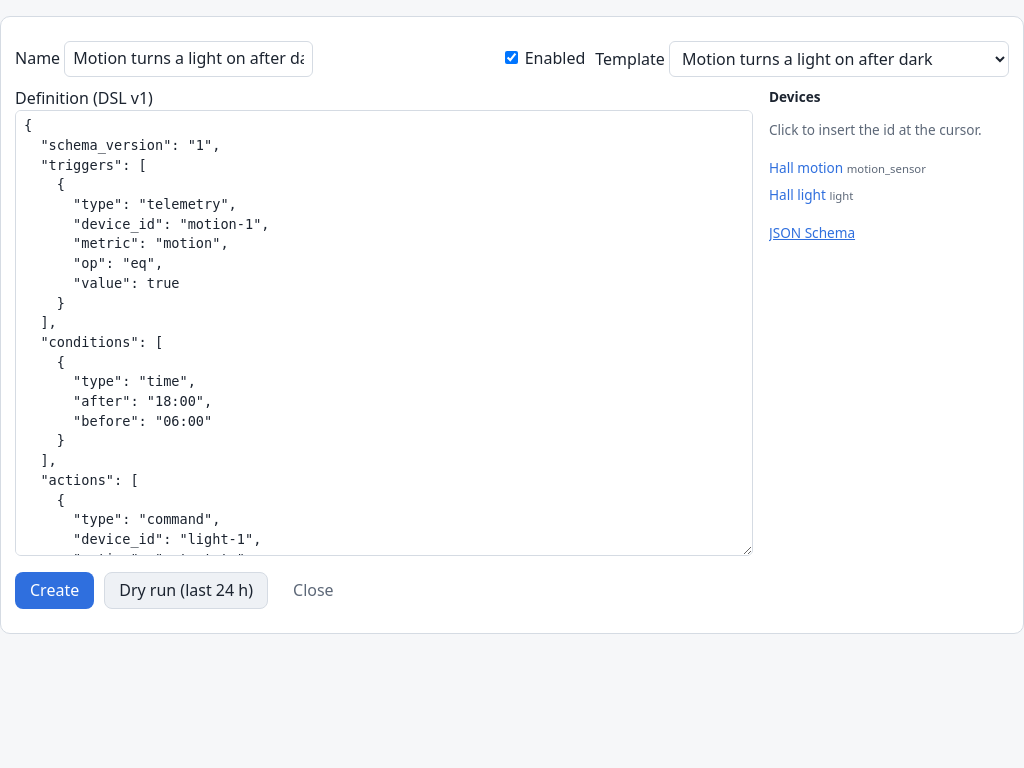
it: AutomationEditor › starts from a template with the home's devices and creates the automation
The width and height of the screenshot is (1024, 768).
Click the button "Create" at [55, 590], box [15,572,94,609]
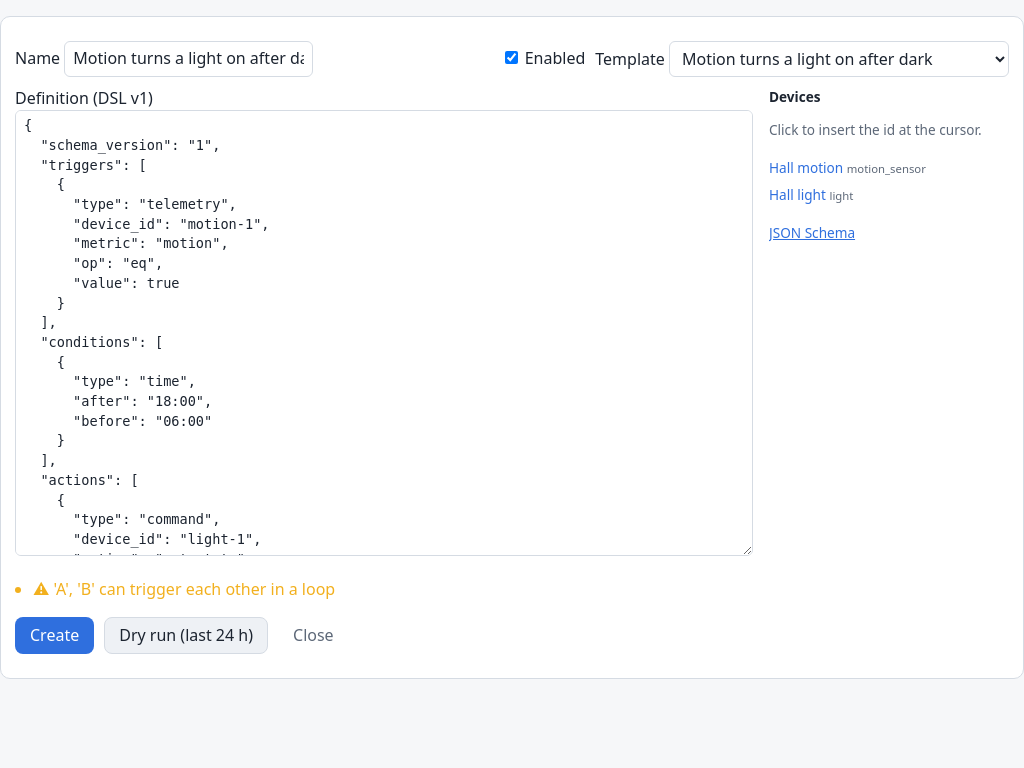
Expected: the list item "⚠ 'A', 'B' can trigger each other in a loop" is shown, [33,578,335,600]
